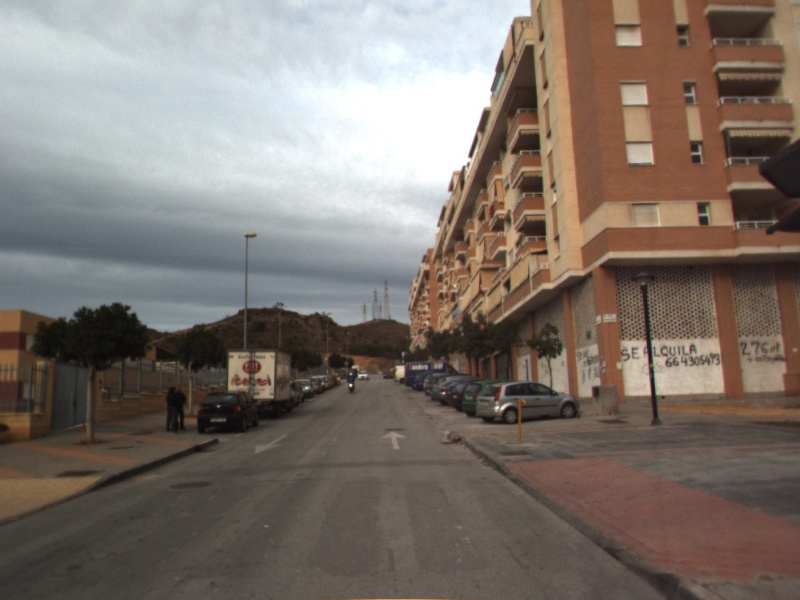STRAIGHT: (380, 428, 408, 451)
